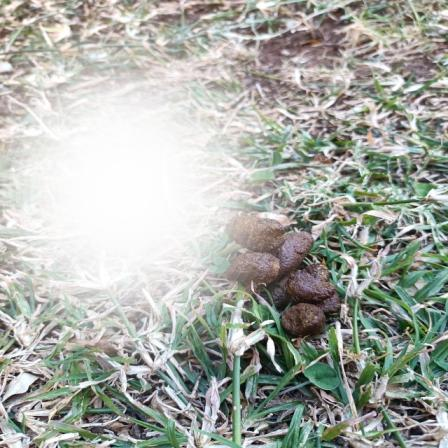dog-poop: (227, 214, 339, 336)
